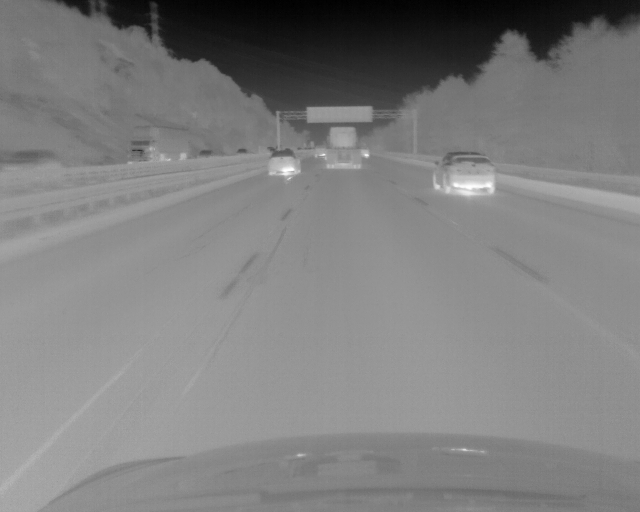car: (432, 152, 495, 196), (126, 127, 189, 161), (1, 150, 61, 174), (327, 127, 361, 169), (267, 150, 300, 174), (360, 144, 369, 159), (314, 145, 326, 156), (197, 150, 213, 158), (237, 149, 247, 154)
